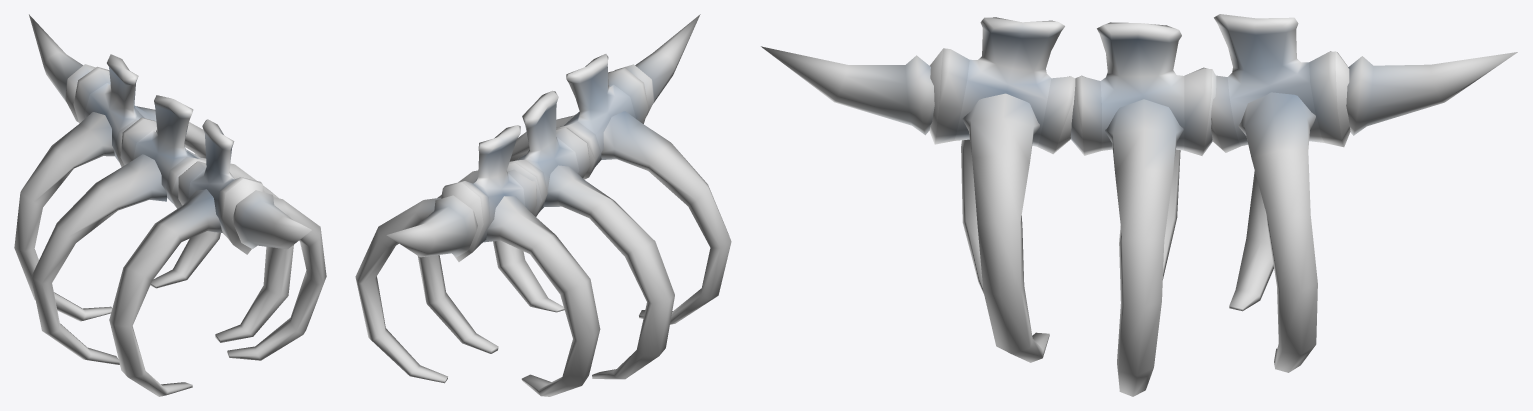
Rendered from Ribcage.gltf.
3 views of the same model, side by side, from view 1: azimuth 30°, elevation 25°; view 2: azimuth 150°, elevation 25°; view 3: azimuth 270°, elevation 25° (orthographic). The views are drawn at different scales.
Parts seen in each view (by area): view 1: RibcageMesh; view 2: RibcageMesh; view 3: RibcageMesh.
Boxes of the visible parts, bbox=[...] form: RibcageMesh: bbox=[14, 14, 326, 396]; RibcageMesh: bbox=[355, 14, 731, 396]; RibcageMesh: bbox=[761, 14, 1517, 396].
Size of what is drawn, in the model's own units: 2.01 by 1.96 by 4.07.
